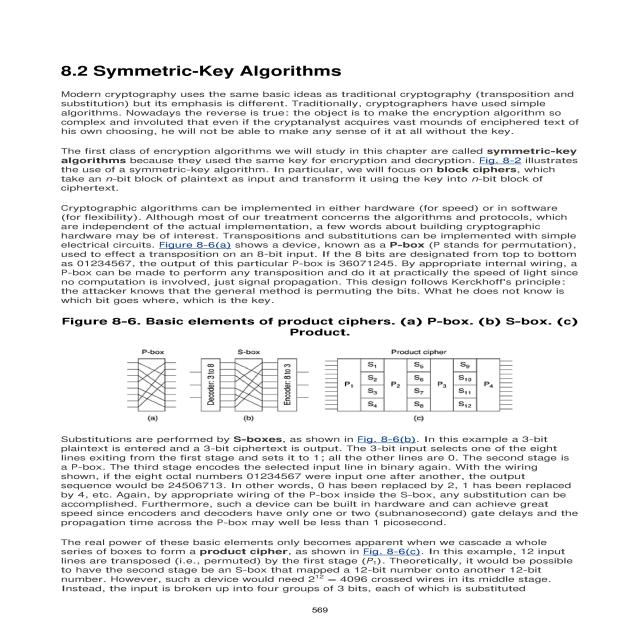diagram: (38, 312, 602, 429)
